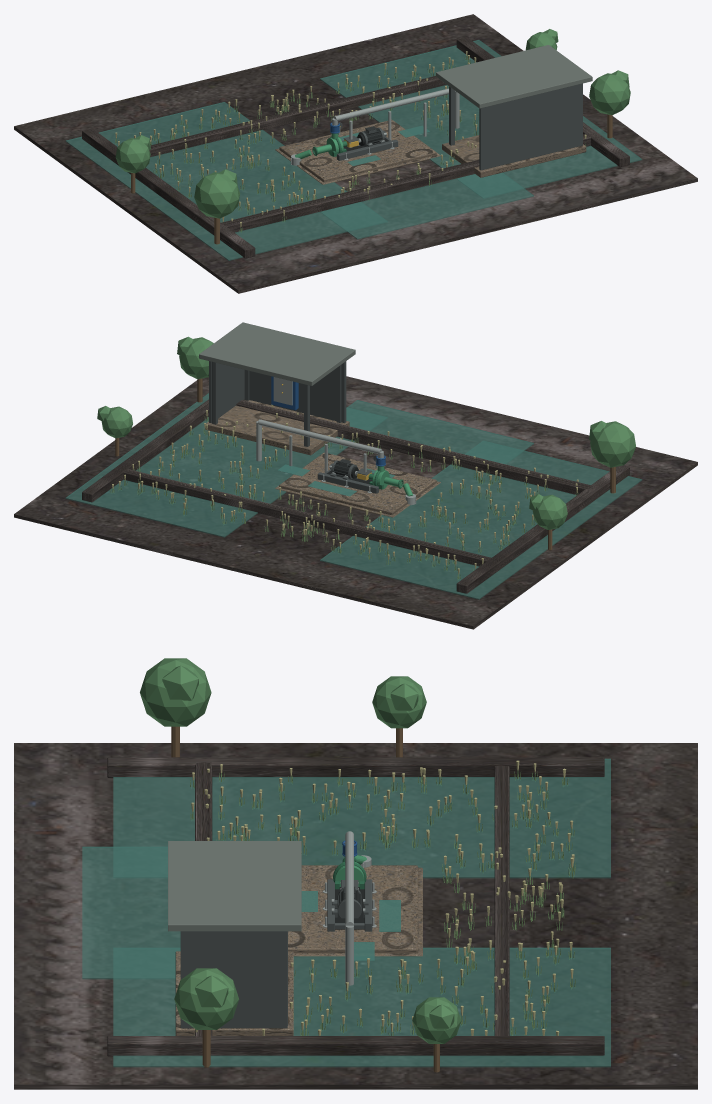
Rendered from paddy_pump_station_v3.glb.
3 renders of one model, top to bottom at view 1: azimuth 30°, elevation 25°; view 2: azimuth 150°, elevation 25°; view 3: azimuth 270°, elevation 25°, orthographic. The views are drawn at different scales.
Visible parts, largest first — view 1: PaddyEarth, PaddyWaterA, PaddyWaterB, PaddyWaterC, ShedBackWall, ShedRoof, RiceField, BundPath, BundN, PumpPad, BundW, ShedFloor (+7 smaller); view 2: PaddyEarth, PaddyWaterA, PaddyWaterB, RiceField, ShedRoof, PaddyWaterC, BundPath, BundN, PumpPad, ShedFloor, BundW, ShedBackWall (+9 smaller); view 3: PaddyEarth, PaddyWaterA, PaddyWaterB, RiceField, ShedRoof, PaddyWaterC, BundW, BundE, ShedSideWall, PumpPad, BundPath, TreeCrown0 (+10 smaller).
Part boxes in pixels (x1,y1,x2,y2): PaddyEarth: (14, 14, 697, 293); PaddyWaterA: (65, 102, 387, 260); PaddyWaterB: (320, 40, 642, 198); PaddyWaterC: (321, 173, 533, 239); ShedBackWall: (479, 83, 582, 170); ShedRoof: (436, 45, 592, 108); RiceField: (115, 51, 586, 232); BundPath: (149, 76, 446, 157); BundN: (220, 133, 590, 232); PumpPad: (279, 119, 436, 182); BundW: (82, 128, 255, 258); ShedFloor: (442, 135, 586, 177); PaddyEarth: (14, 376, 697, 629); PaddyWaterA: (320, 440, 642, 599); PaddyWaterB: (65, 393, 387, 537); RiceField: (110, 404, 578, 579); ShedRoof: (199, 322, 355, 385); PaddyWaterC: (346, 400, 533, 463); BundPath: (123, 469, 491, 566); BundN: (236, 400, 592, 494); PumpPad: (279, 452, 436, 514); ShedFloor: (205, 399, 349, 455); BundW: (456, 465, 629, 593); ShedBackWall: (249, 361, 346, 422); PaddyEarth: (14, 743, 697, 1089); PaddyWaterA: (113, 758, 610, 878); PaddyWaterB: (113, 947, 610, 1067); RiceField: (190, 760, 575, 1035); ShedRoof: (168, 841, 301, 931); PaddyWaterC: (82, 846, 180, 979); BundW: (107, 757, 604, 777); BundE: (107, 1036, 604, 1056); ShedSideWall: (182, 931, 287, 1028); PumpPad: (288, 865, 418, 953); BundPath: (494, 766, 509, 1035); TreeCrown0: (140, 658, 211, 726).
Size of the model in its own units: 13 by 2.33 by 11.
16 materials, 2 textured.
